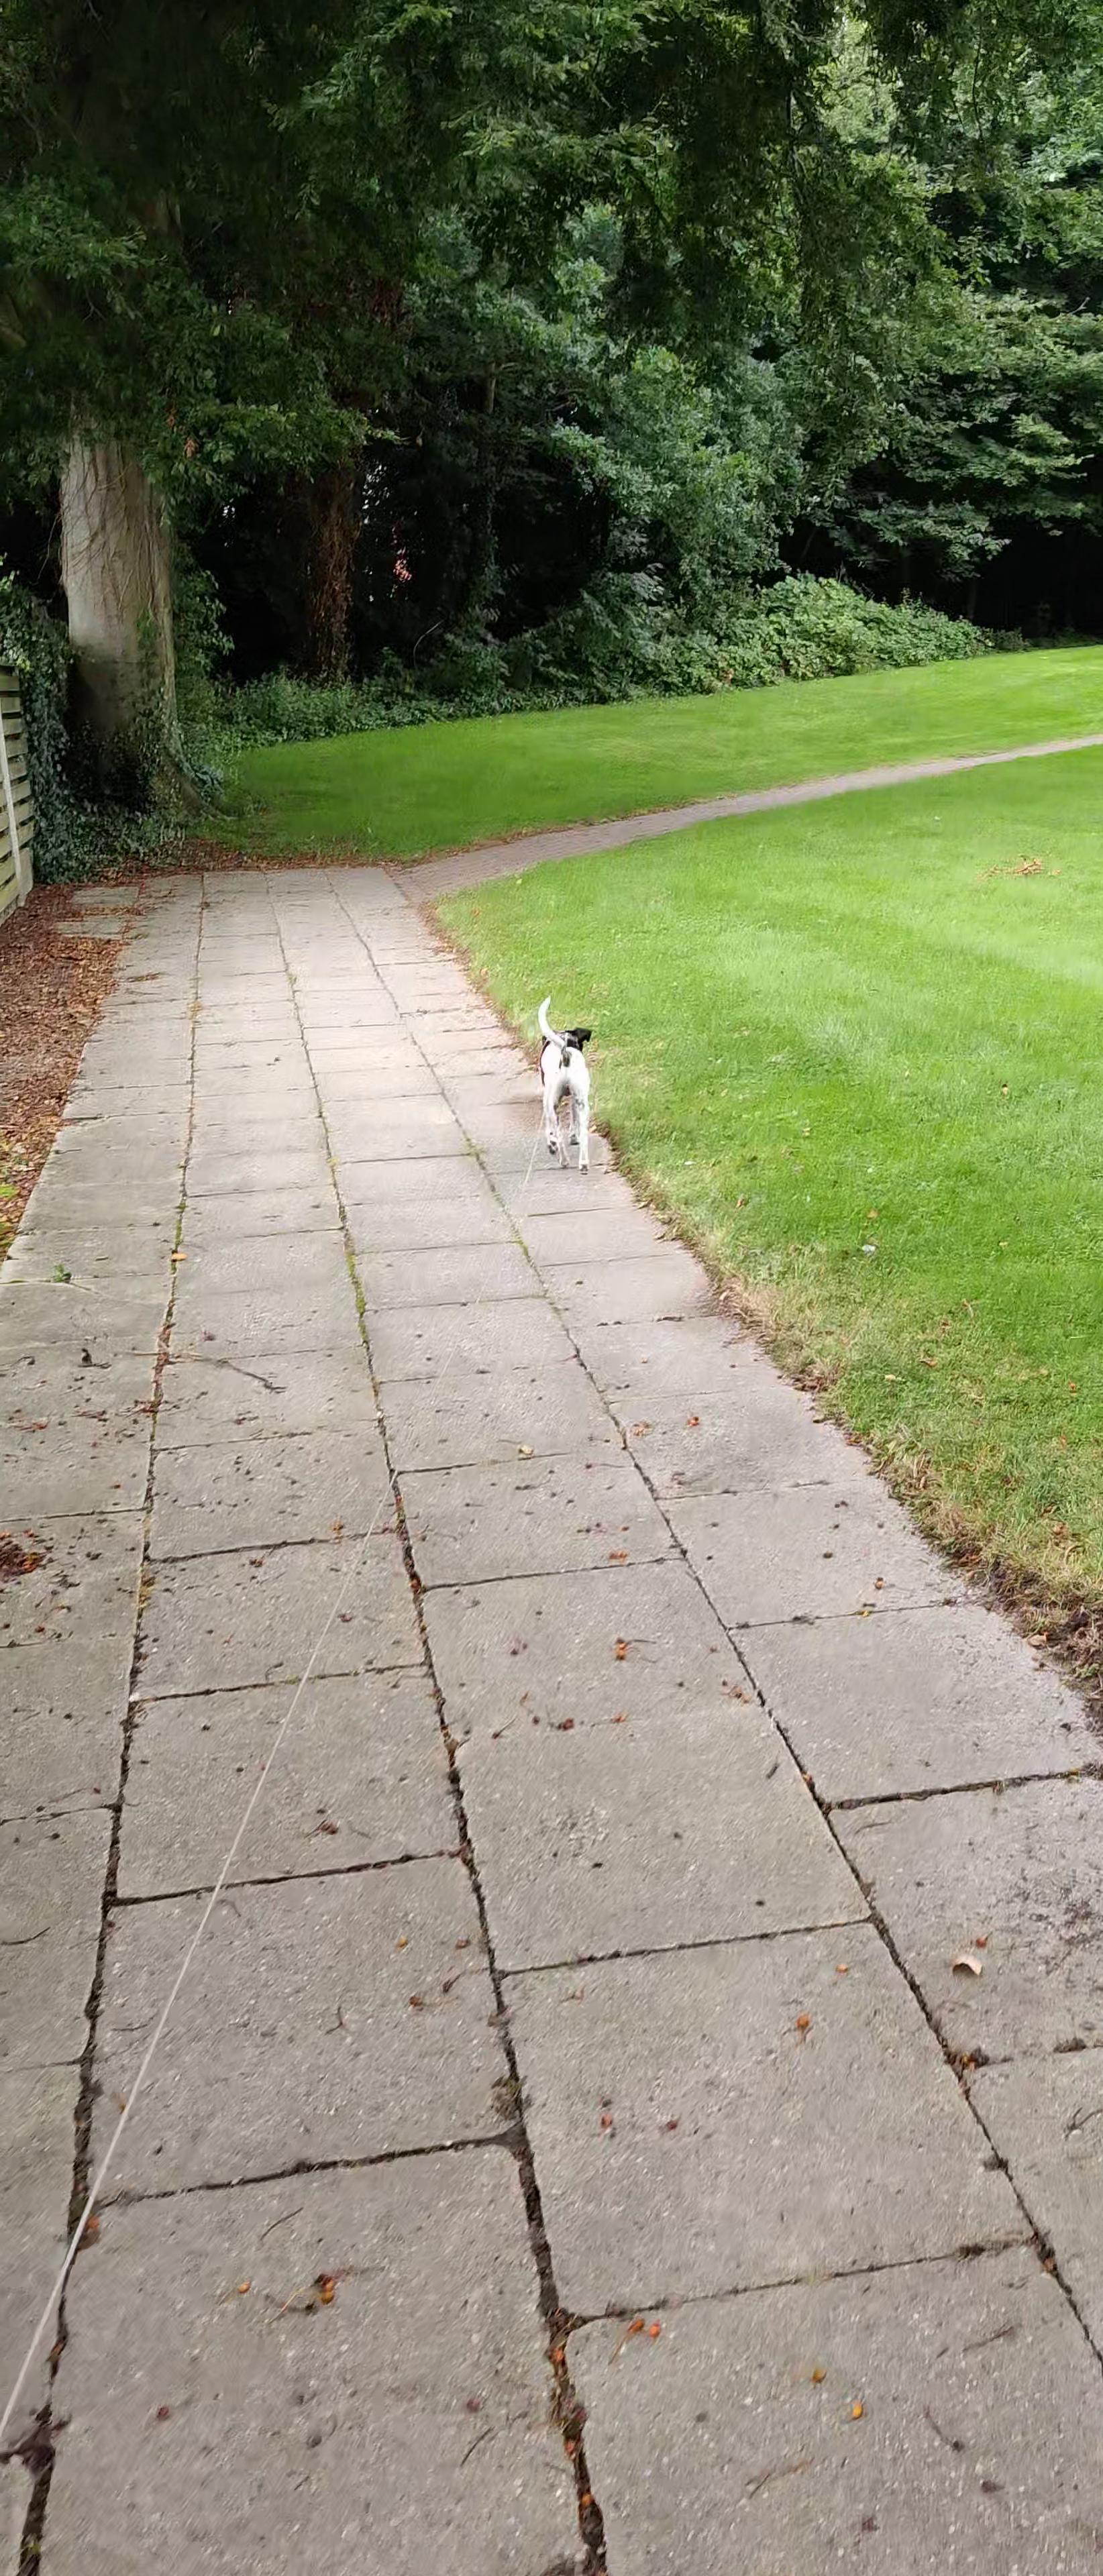Dog: (521, 984, 603, 1178)
